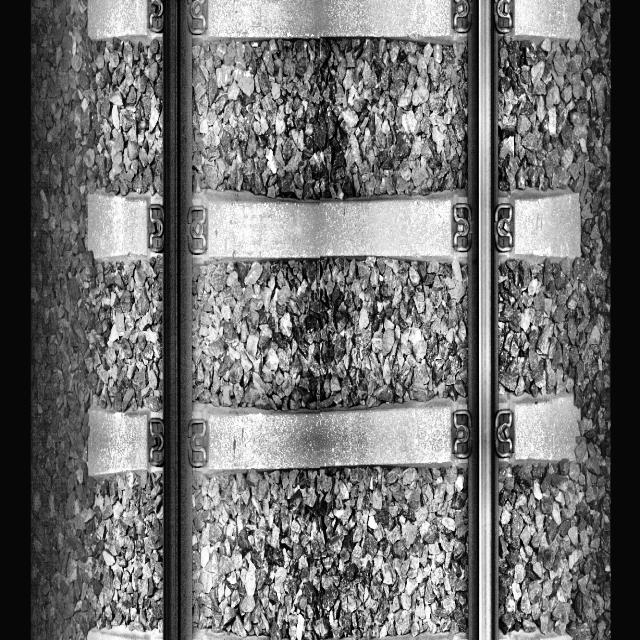Clips: (490, 404, 516, 459), (451, 202, 475, 252), (450, 408, 474, 458), (492, 205, 516, 254), (187, 203, 210, 253), (186, 418, 208, 468), (147, 418, 167, 468), (490, 0, 518, 35), (447, 0, 472, 35), (147, 202, 165, 250), (187, 1, 210, 35), (148, 1, 165, 34)
Sleepers: (83, 174, 589, 276), (76, 390, 585, 477), (83, 0, 583, 46)
